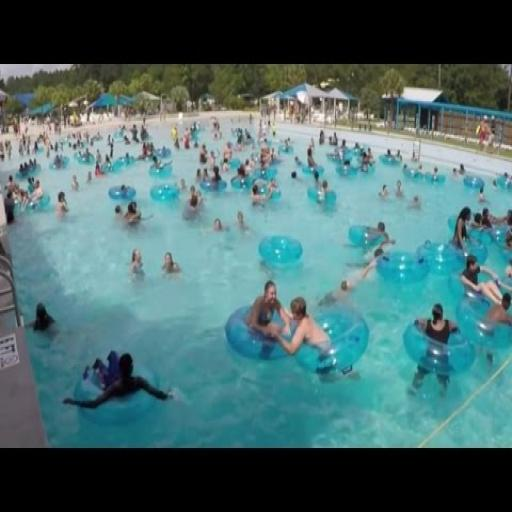swimming: (0, 108, 511, 421), (60, 350, 176, 414), (404, 300, 461, 401), (243, 278, 292, 344)
